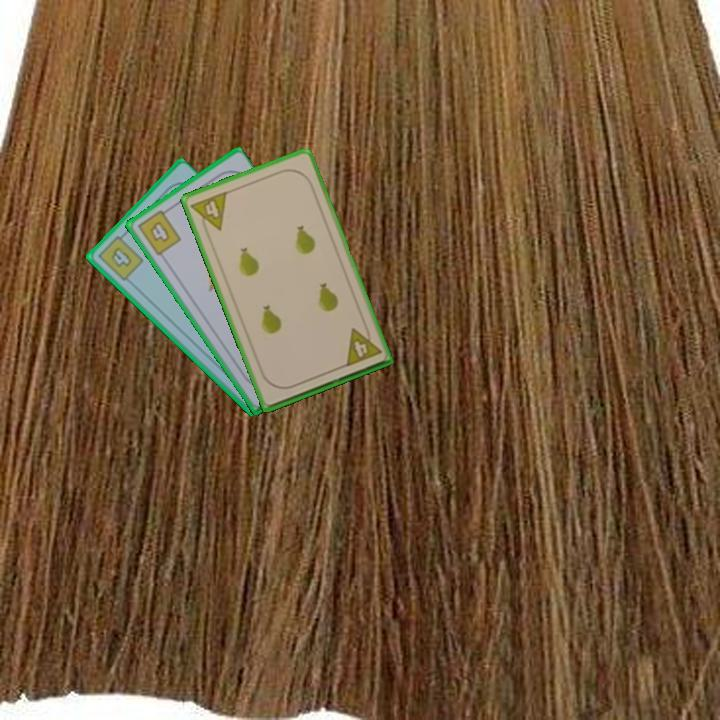4b: (94, 229, 146, 284), (134, 204, 184, 259)
4p: (187, 188, 230, 238), (341, 321, 384, 370)
